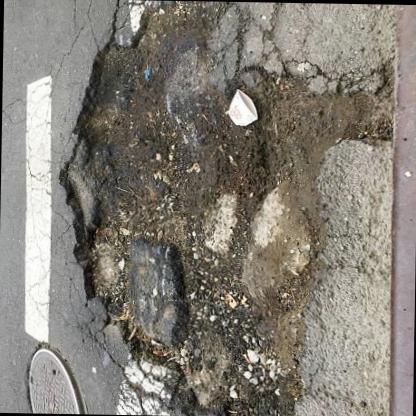manholes: (0, 327, 101, 414)
